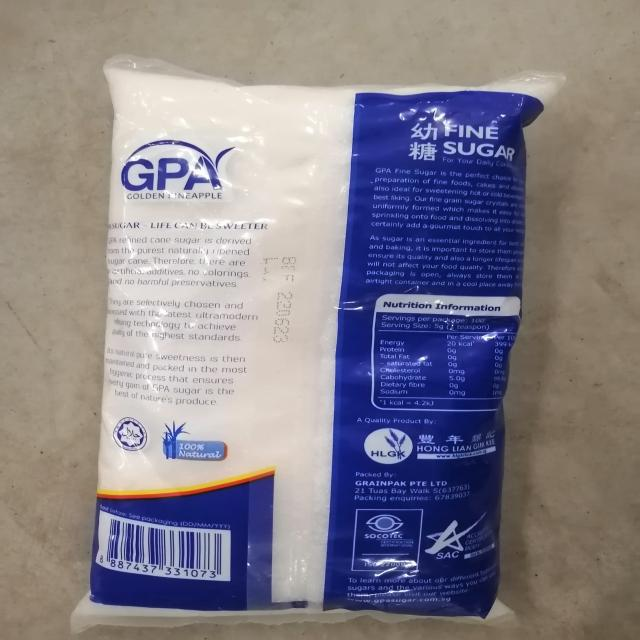object_name: (114, 67, 493, 615)
